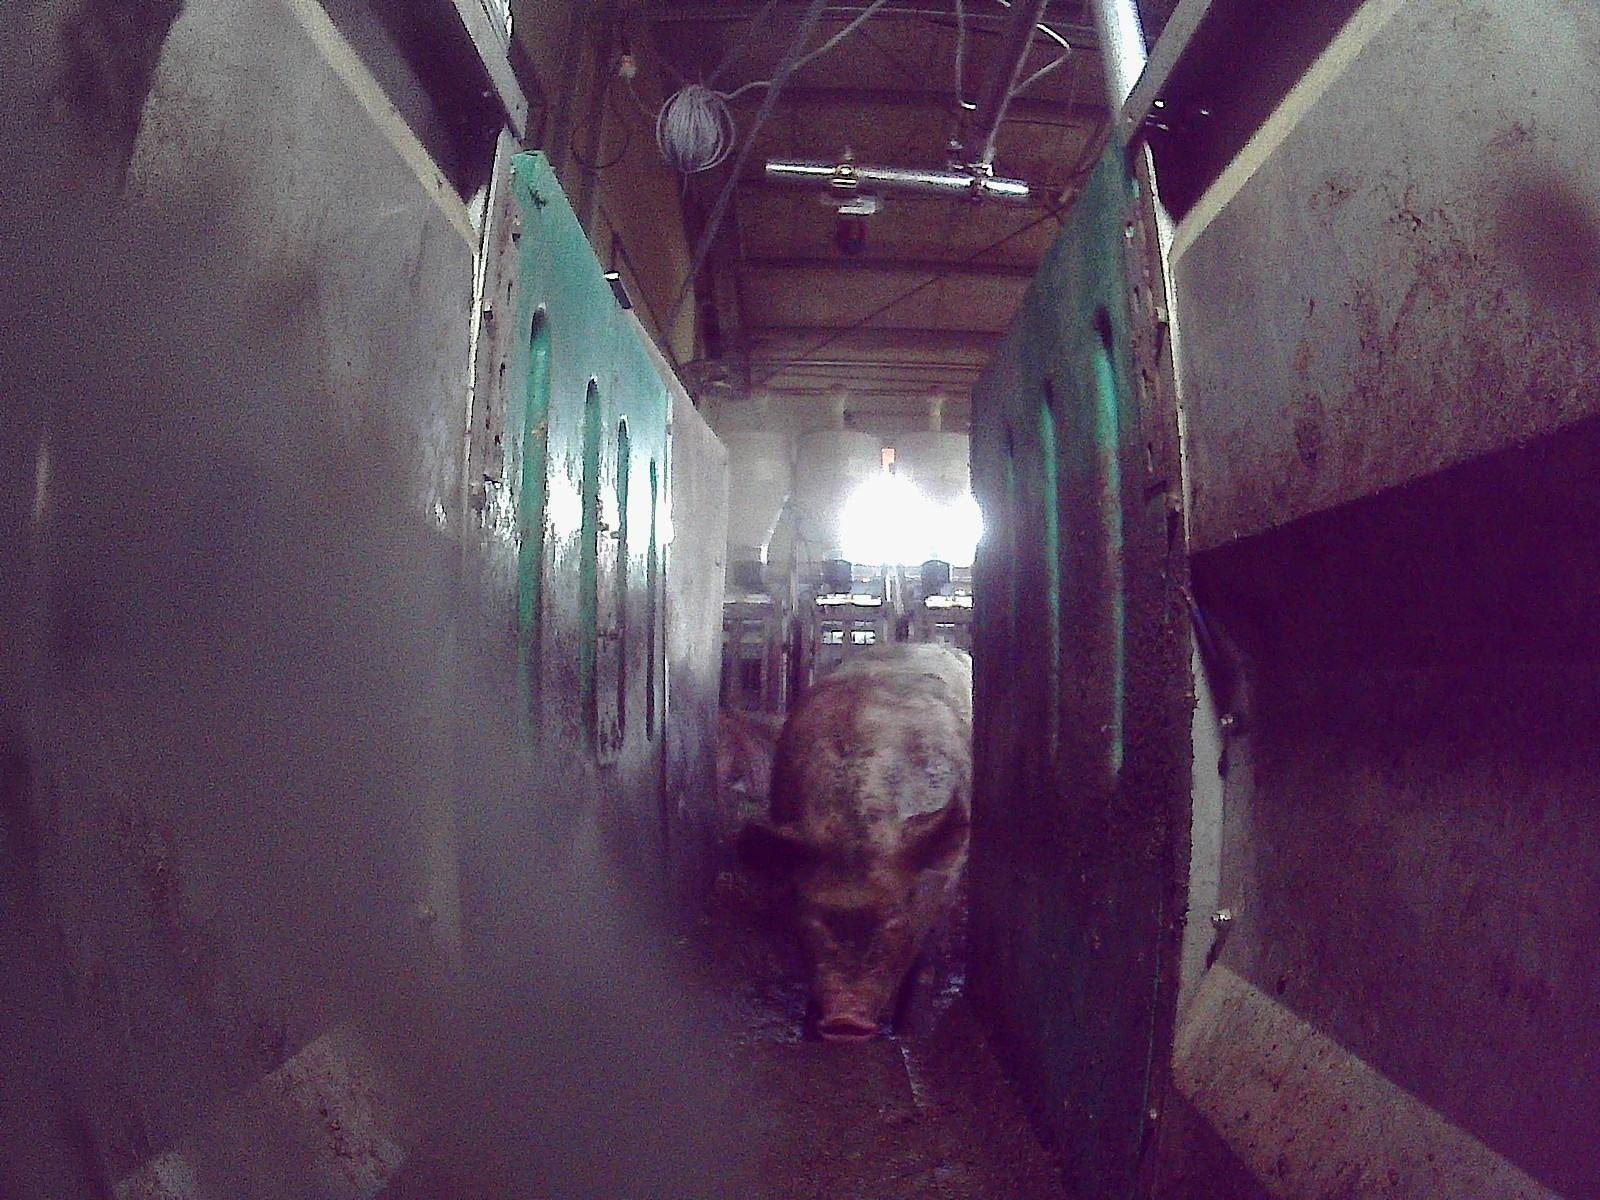Face: (799, 838, 938, 1041)
